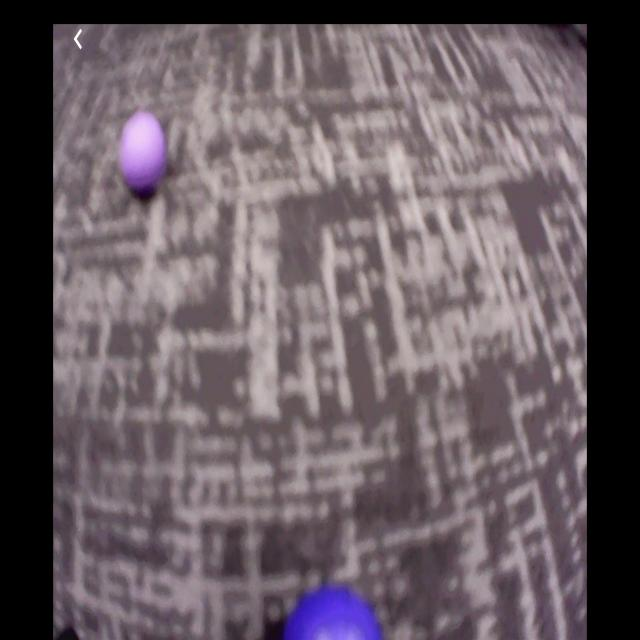ball: (285, 589, 383, 640), (119, 115, 166, 193)
